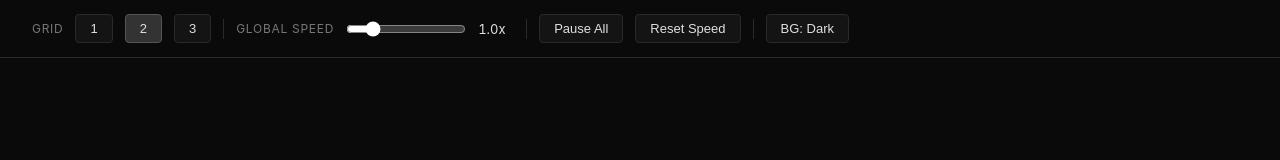
Test: Toolbar › cycles background on click (QW-3)
The image size is (1280, 160).
What coordinates should you click on to do the following:
click the button with test id "bg-toggle"
I would click on:
 (807, 28)
Its box is top-left (766, 14), bottom-right (849, 43).
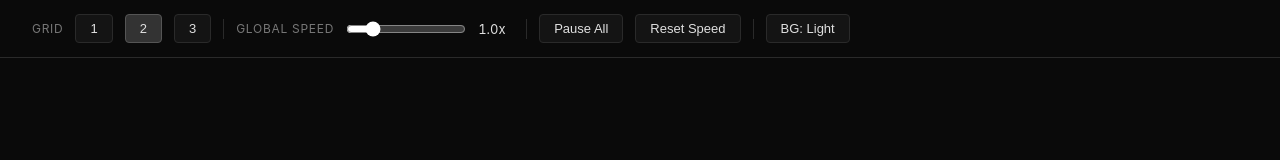
expect the button with test id "bg-toggle" shows "Light": met
What coordinates should you click on to do the following:
click the button with test id "bg-toggle"
I would click on:
 (808, 28)
Its box is top-left (766, 14), bottom-right (850, 43).
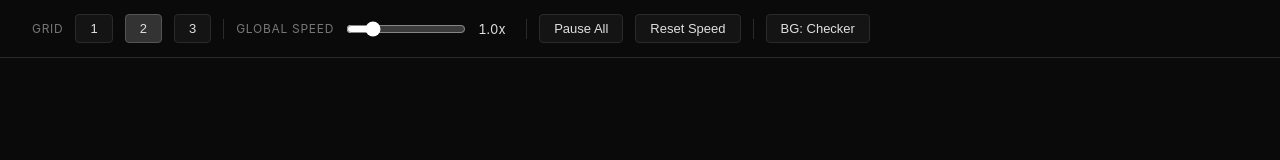
expect the button with test id "bg-toggle" shows "Checker": met
What coordinates should you click on to do the following:
click the button with test id "bg-toggle"
I would click on:
 (818, 28)
Its box is top-left (766, 14), bottom-right (870, 43).
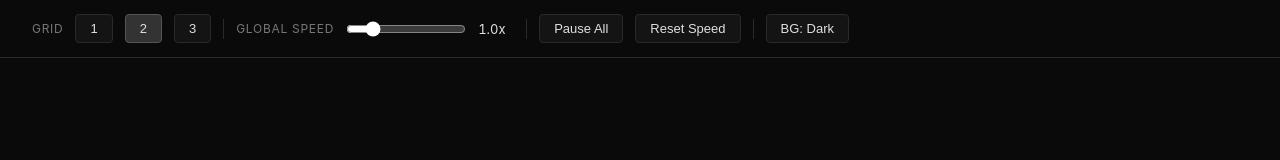
expect the button with test id "bg-toggle" shows "Dark": met, box top-left (766, 14), bottom-right (849, 43)
